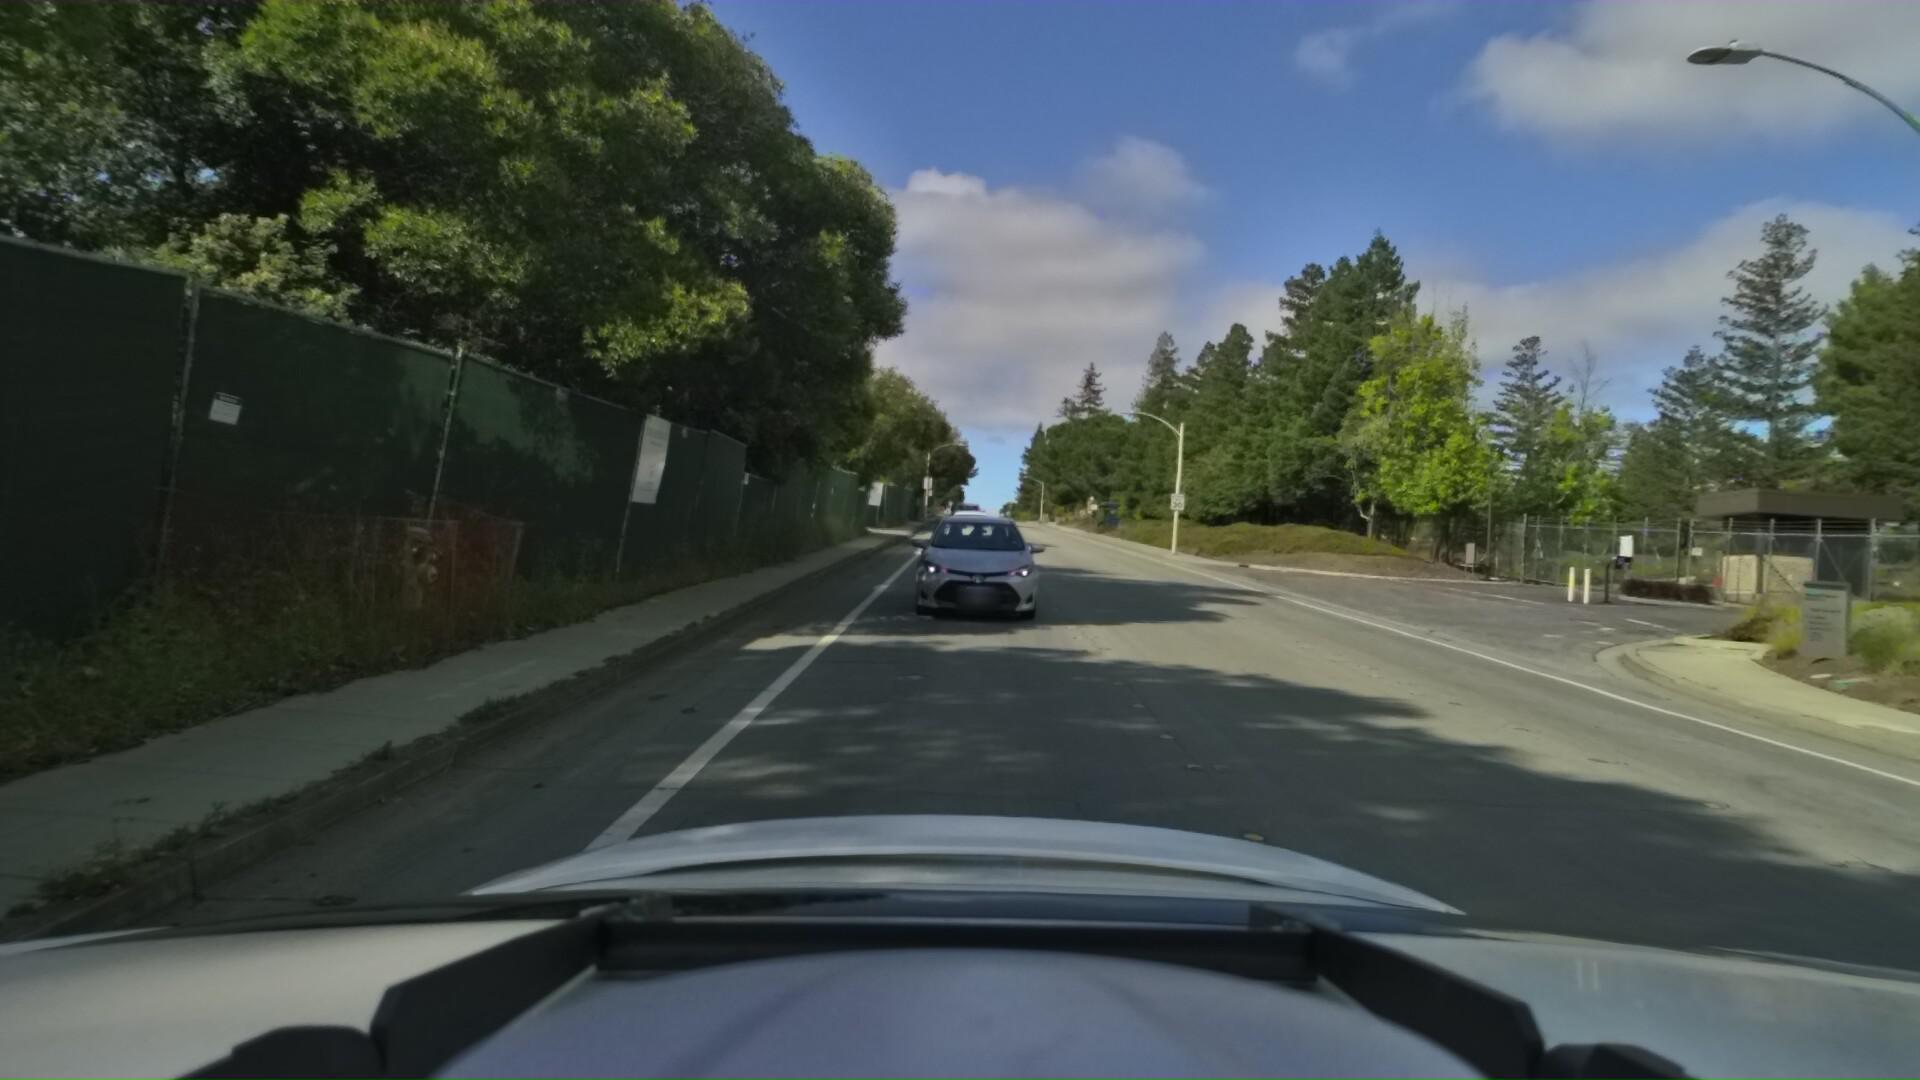car: (903, 489, 1044, 618), (938, 497, 994, 549)
